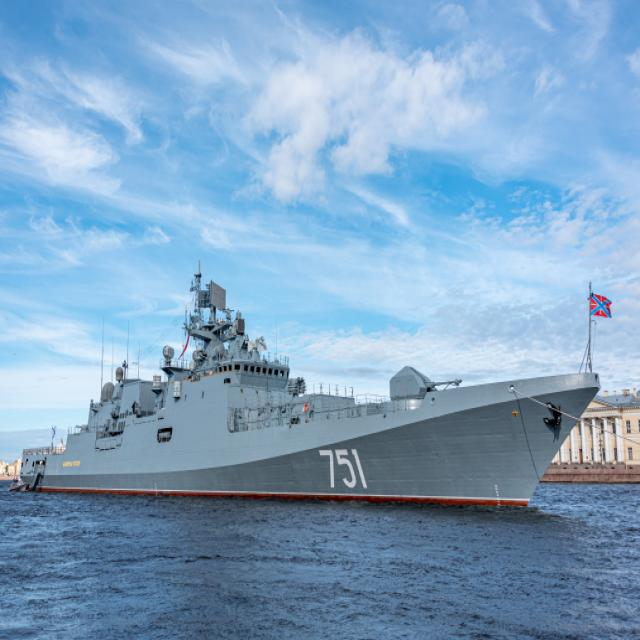Fragata: (18, 266, 608, 525)
